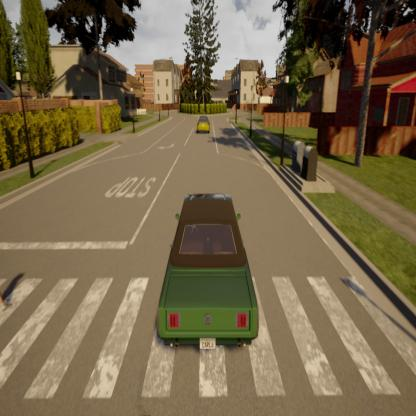Cars: (158, 194, 258, 351), (196, 114, 210, 134)
